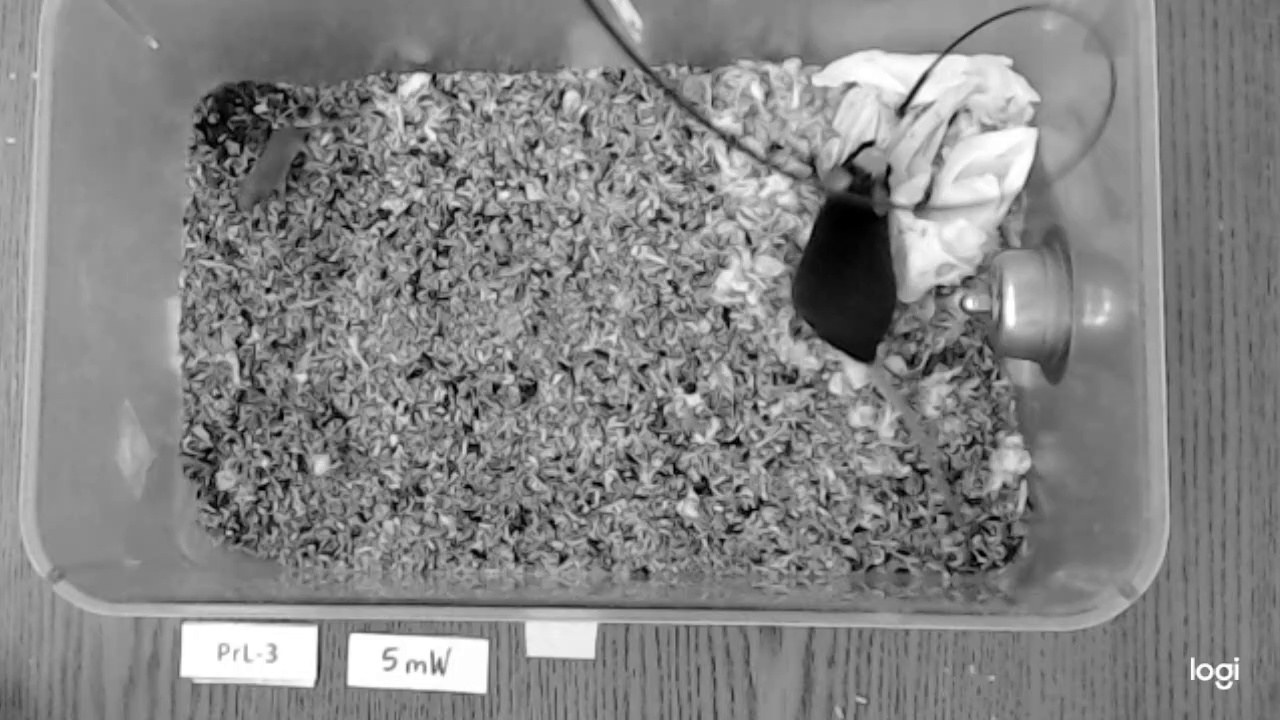child-mice: (232, 123, 307, 214)
